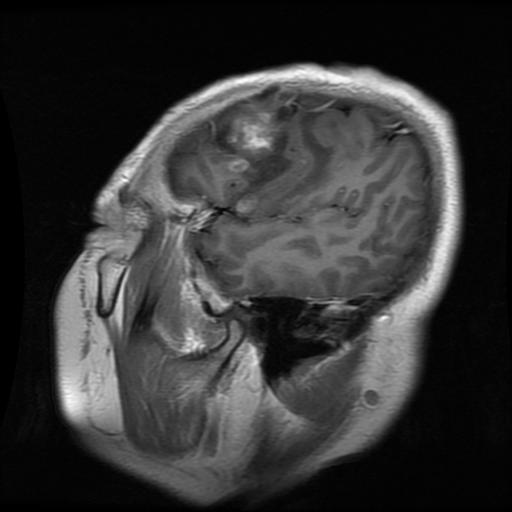Gliomia_tumour: (210, 99, 335, 213)
